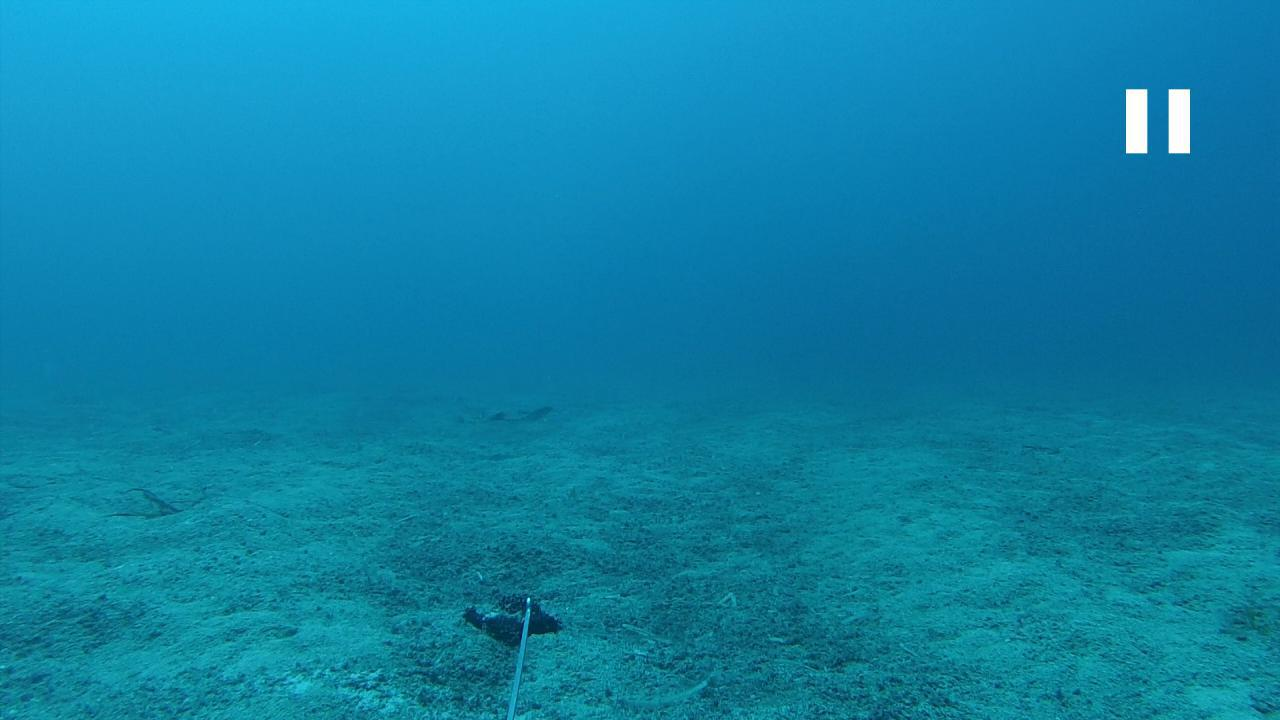dasyatis: (455, 393, 552, 422)
